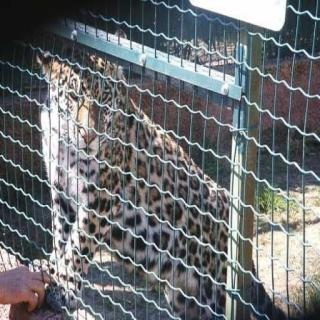Leopard: (33, 44, 225, 310)
